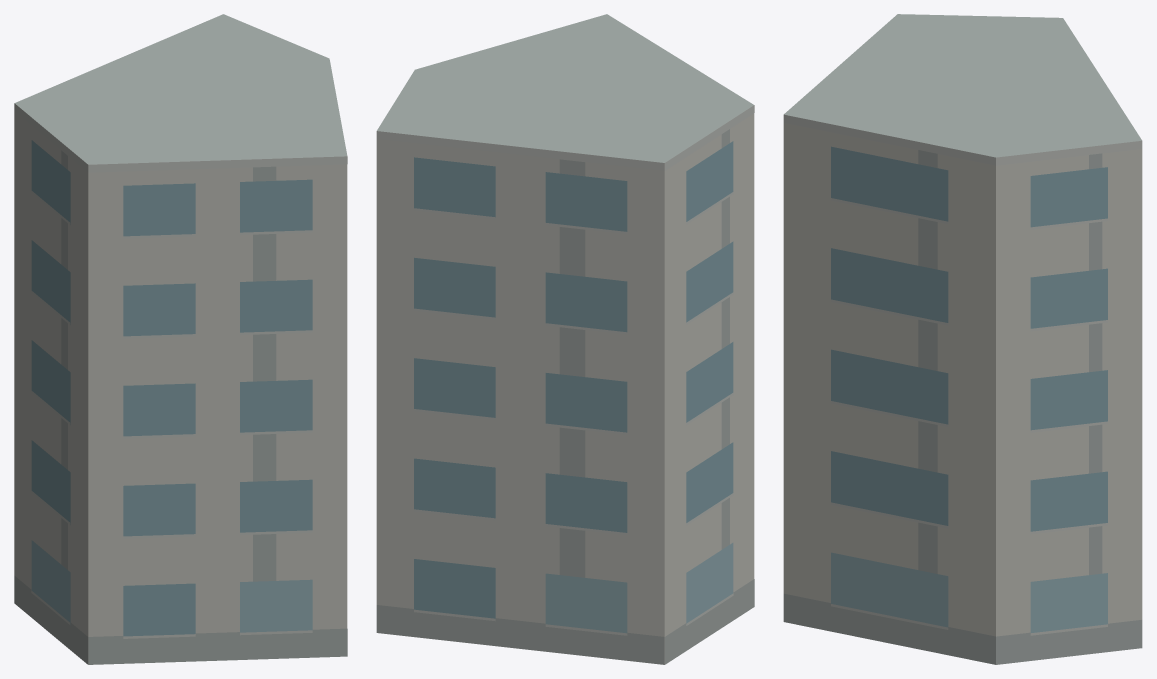
Rendered from residential-6676c52e-78ed-431d-87eb-907a04d24cbf.glb.
3 views of the same model, side by side, from view 1: azimuth 30°, elevation 25°; view 2: azimuth 150°, elevation 25°; view 3: azimuth 270°, elevation 25° (orthographic).
Parts seen in each view (by area): view 1: residential-6676c52e-78ed-431d-87eb-907a04d24cbf.tmp; view 2: residential-6676c52e-78ed-431d-87eb-907a04d24cbf.tmp; view 3: residential-6676c52e-78ed-431d-87eb-907a04d24cbf.tmp.
Part boxes in pixels (box(x1,y1,x2,y2)): residential-6676c52e-78ed-431d-87eb-907a04d24cbf.tmp: box(14, 14, 347, 664); residential-6676c52e-78ed-431d-87eb-907a04d24cbf.tmp: box(376, 14, 754, 664); residential-6676c52e-78ed-431d-87eb-907a04d24cbf.tmp: box(783, 14, 1142, 664).
Size of the model in its own units: 9.26 by 15.25 by 9.79.
